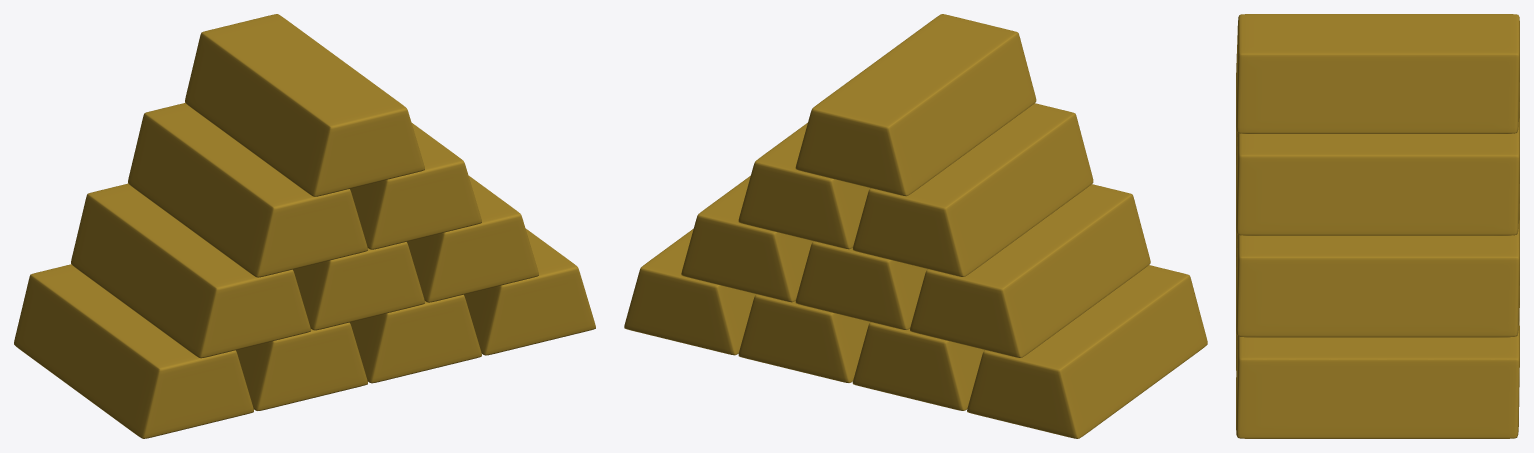
The model's file is Gold_Stack_Large.fbx.
3 views of the same model, side by side, from view 1: azimuth 30°, elevation 25°; view 2: azimuth 150°, elevation 25°; view 3: azimuth 270°, elevation 25° (orthographic). The views are drawn at different scales.
Parts seen in each view (by area): view 1: Gold_Stack_Large; view 2: Gold_Stack_Large; view 3: Gold_Stack_Large.
Boxes of the visible parts, box(x1,y1,x2,y2) form: Gold_Stack_Large: box(14, 14, 595, 438); Gold_Stack_Large: box(624, 14, 1207, 438); Gold_Stack_Large: box(1236, 14, 1519, 438).
Bounding box in the file's own units: 0.3989 × 0.224 × 0.2007.
1 material, 1 textured.
